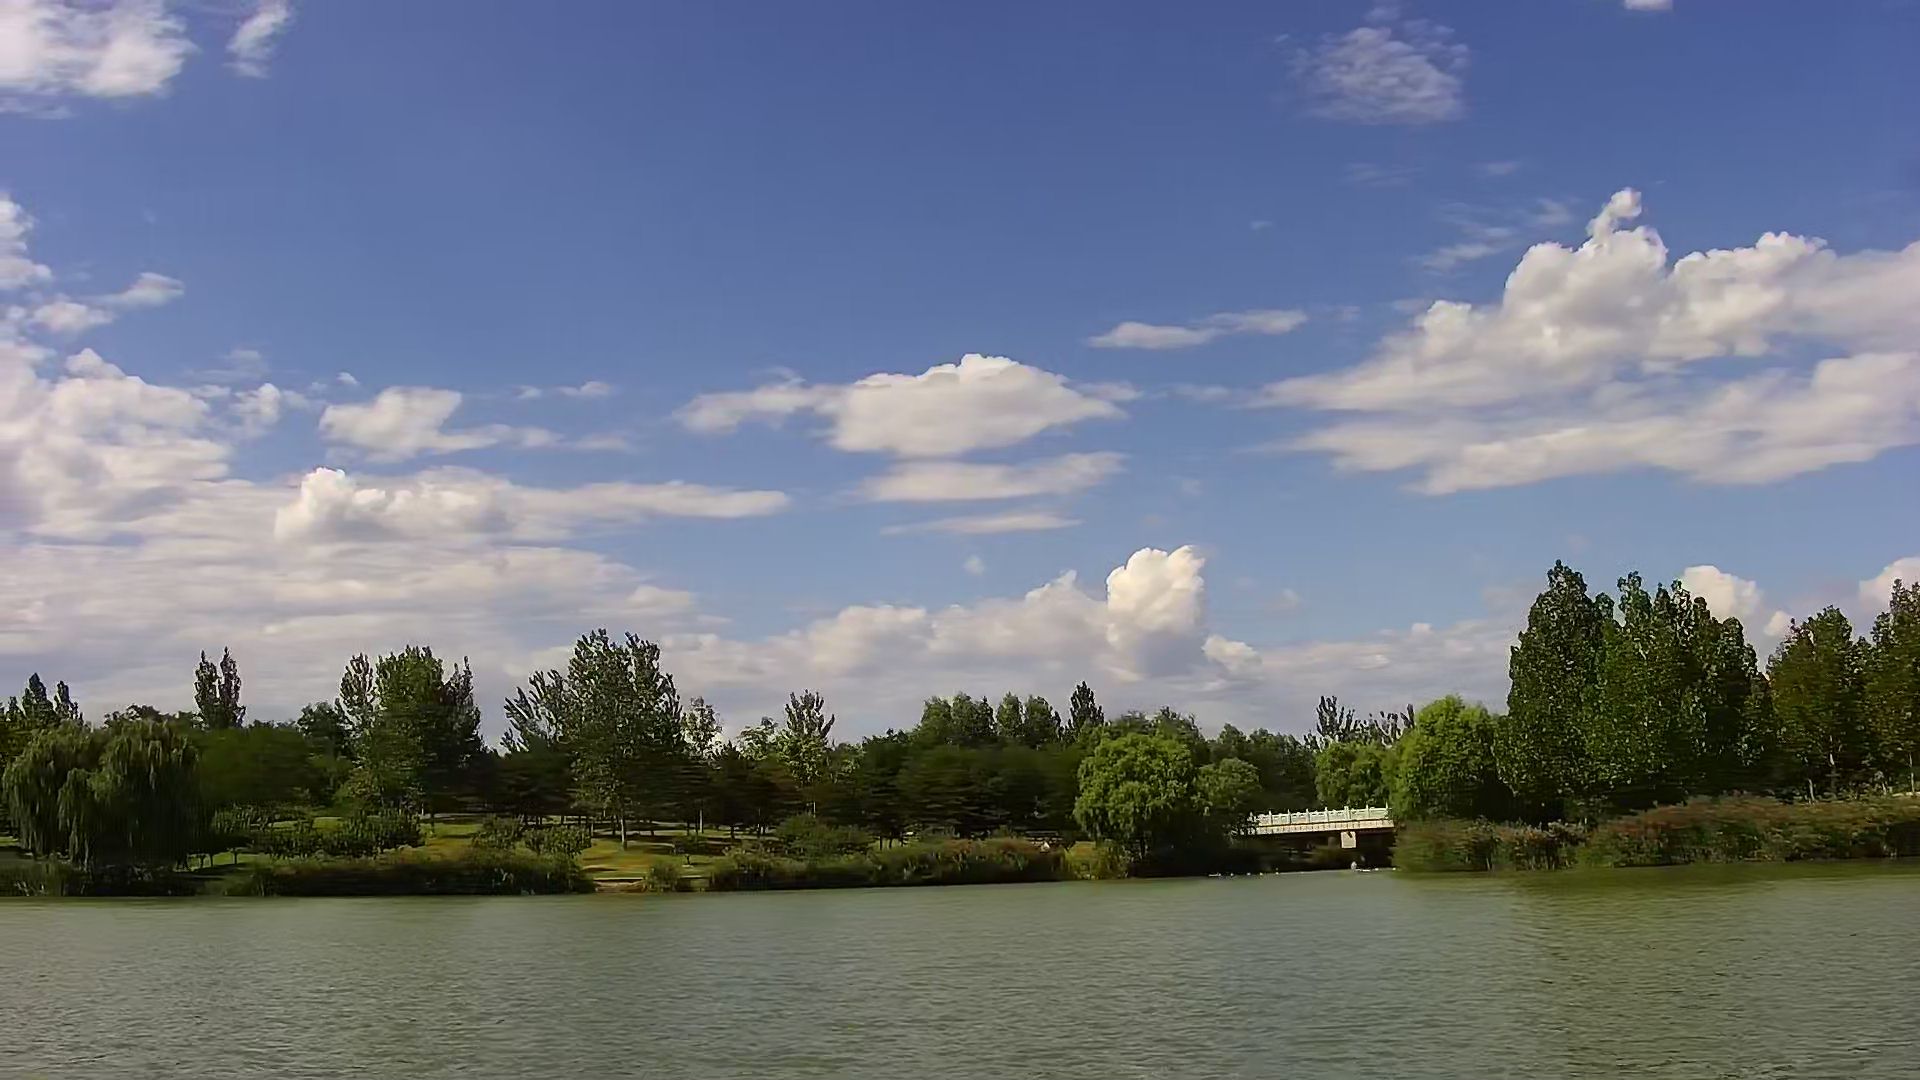bridge: (1246, 806, 1385, 877)
